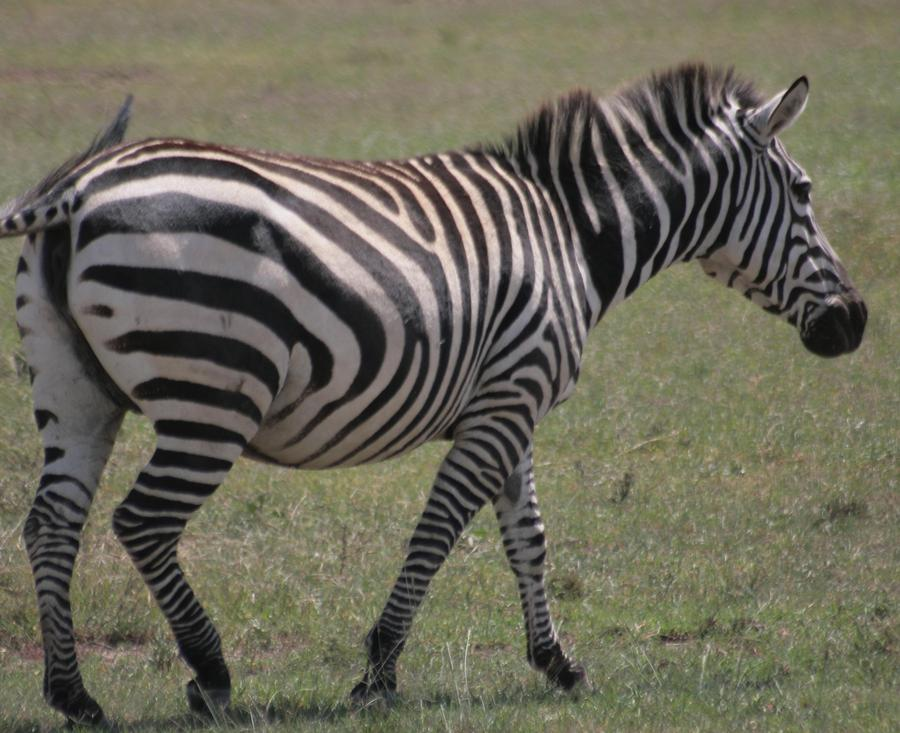zebra_plains: (141, 149, 581, 469)
